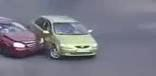car-accident: (2, 9, 98, 63)
